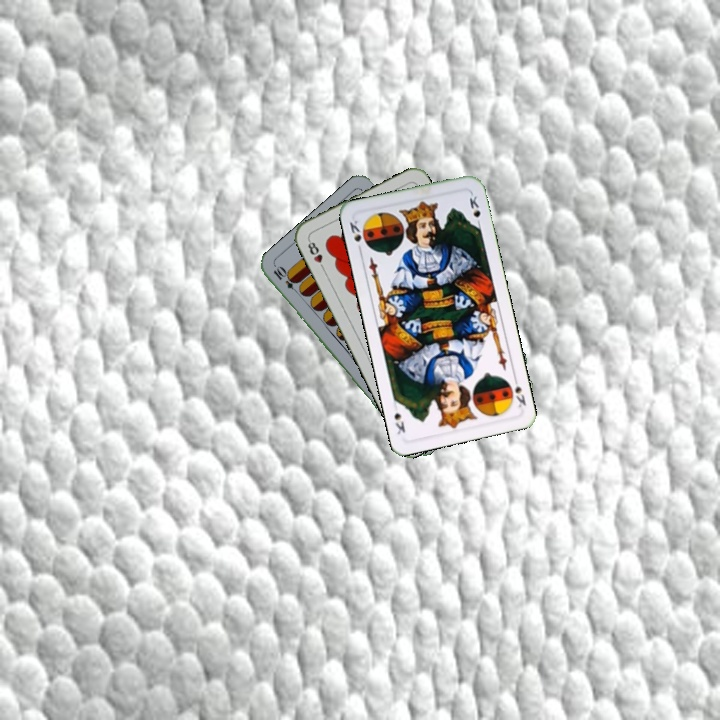E10: (269, 263, 303, 297)
H8: (303, 235, 328, 273)
SK: (345, 216, 370, 255), (509, 372, 529, 410)
